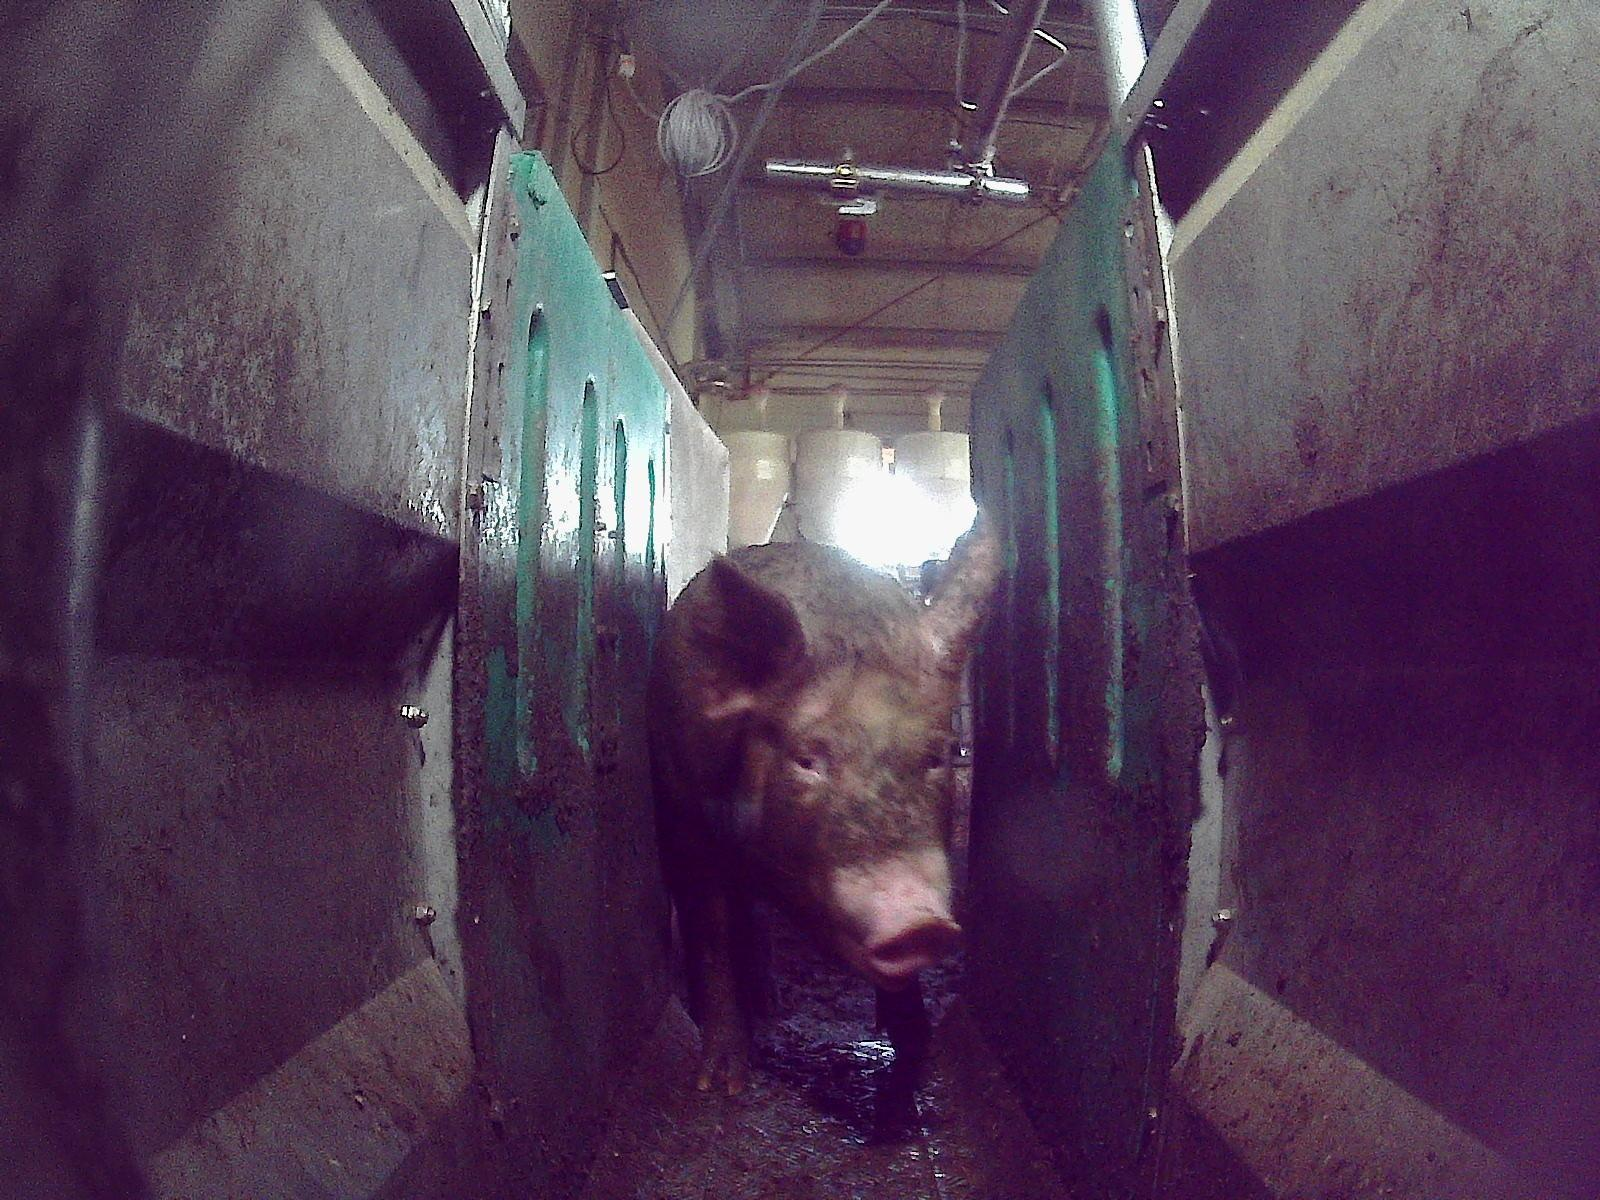Face: (725, 629, 962, 985)
